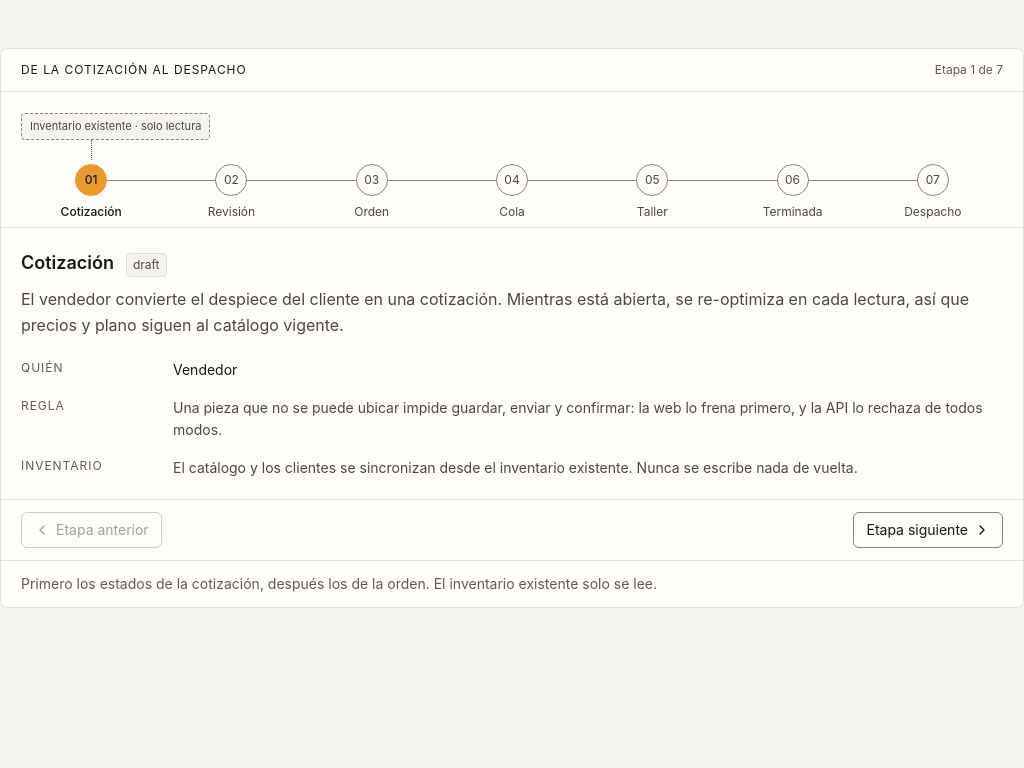
OrderPipeline › steps with the previous and next buttons
The width and height of the screenshot is (1024, 768).
expect the button "Etapa anterior" is disabled: met, box [21,512,162,548]
Click the button "Etapa siguiente" at {"x": 928, "y": 530}, box [854,512,1003,548]
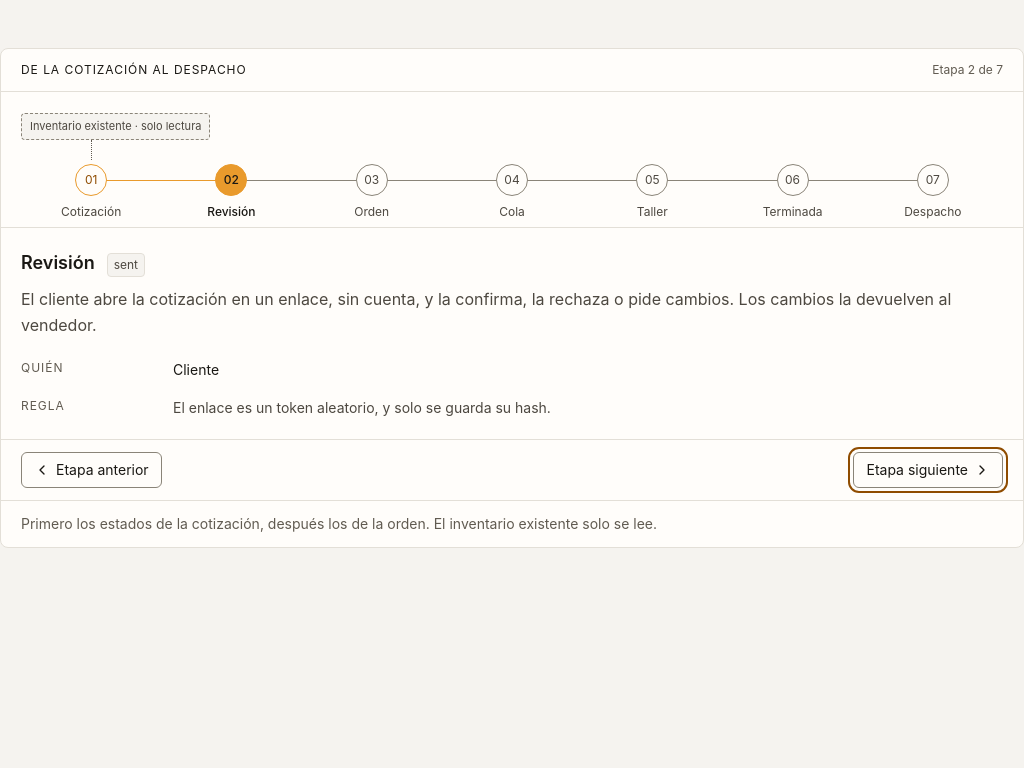
Click the button "Etapa siguiente" at {"x": 928, "y": 470}, box [854,452,1003,488]
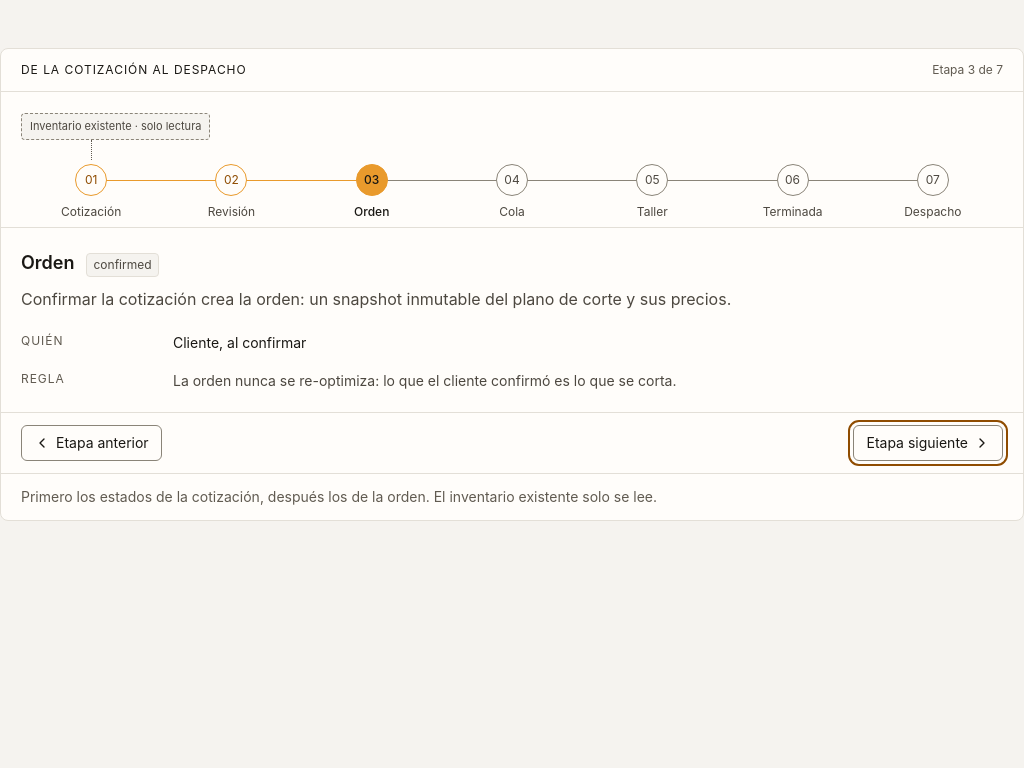
expect the panel shows "confirmed": met, box [94,256,152,272]
expect the text "Etapa 3 de 7" is shown: met, box [932,61,1003,79]
